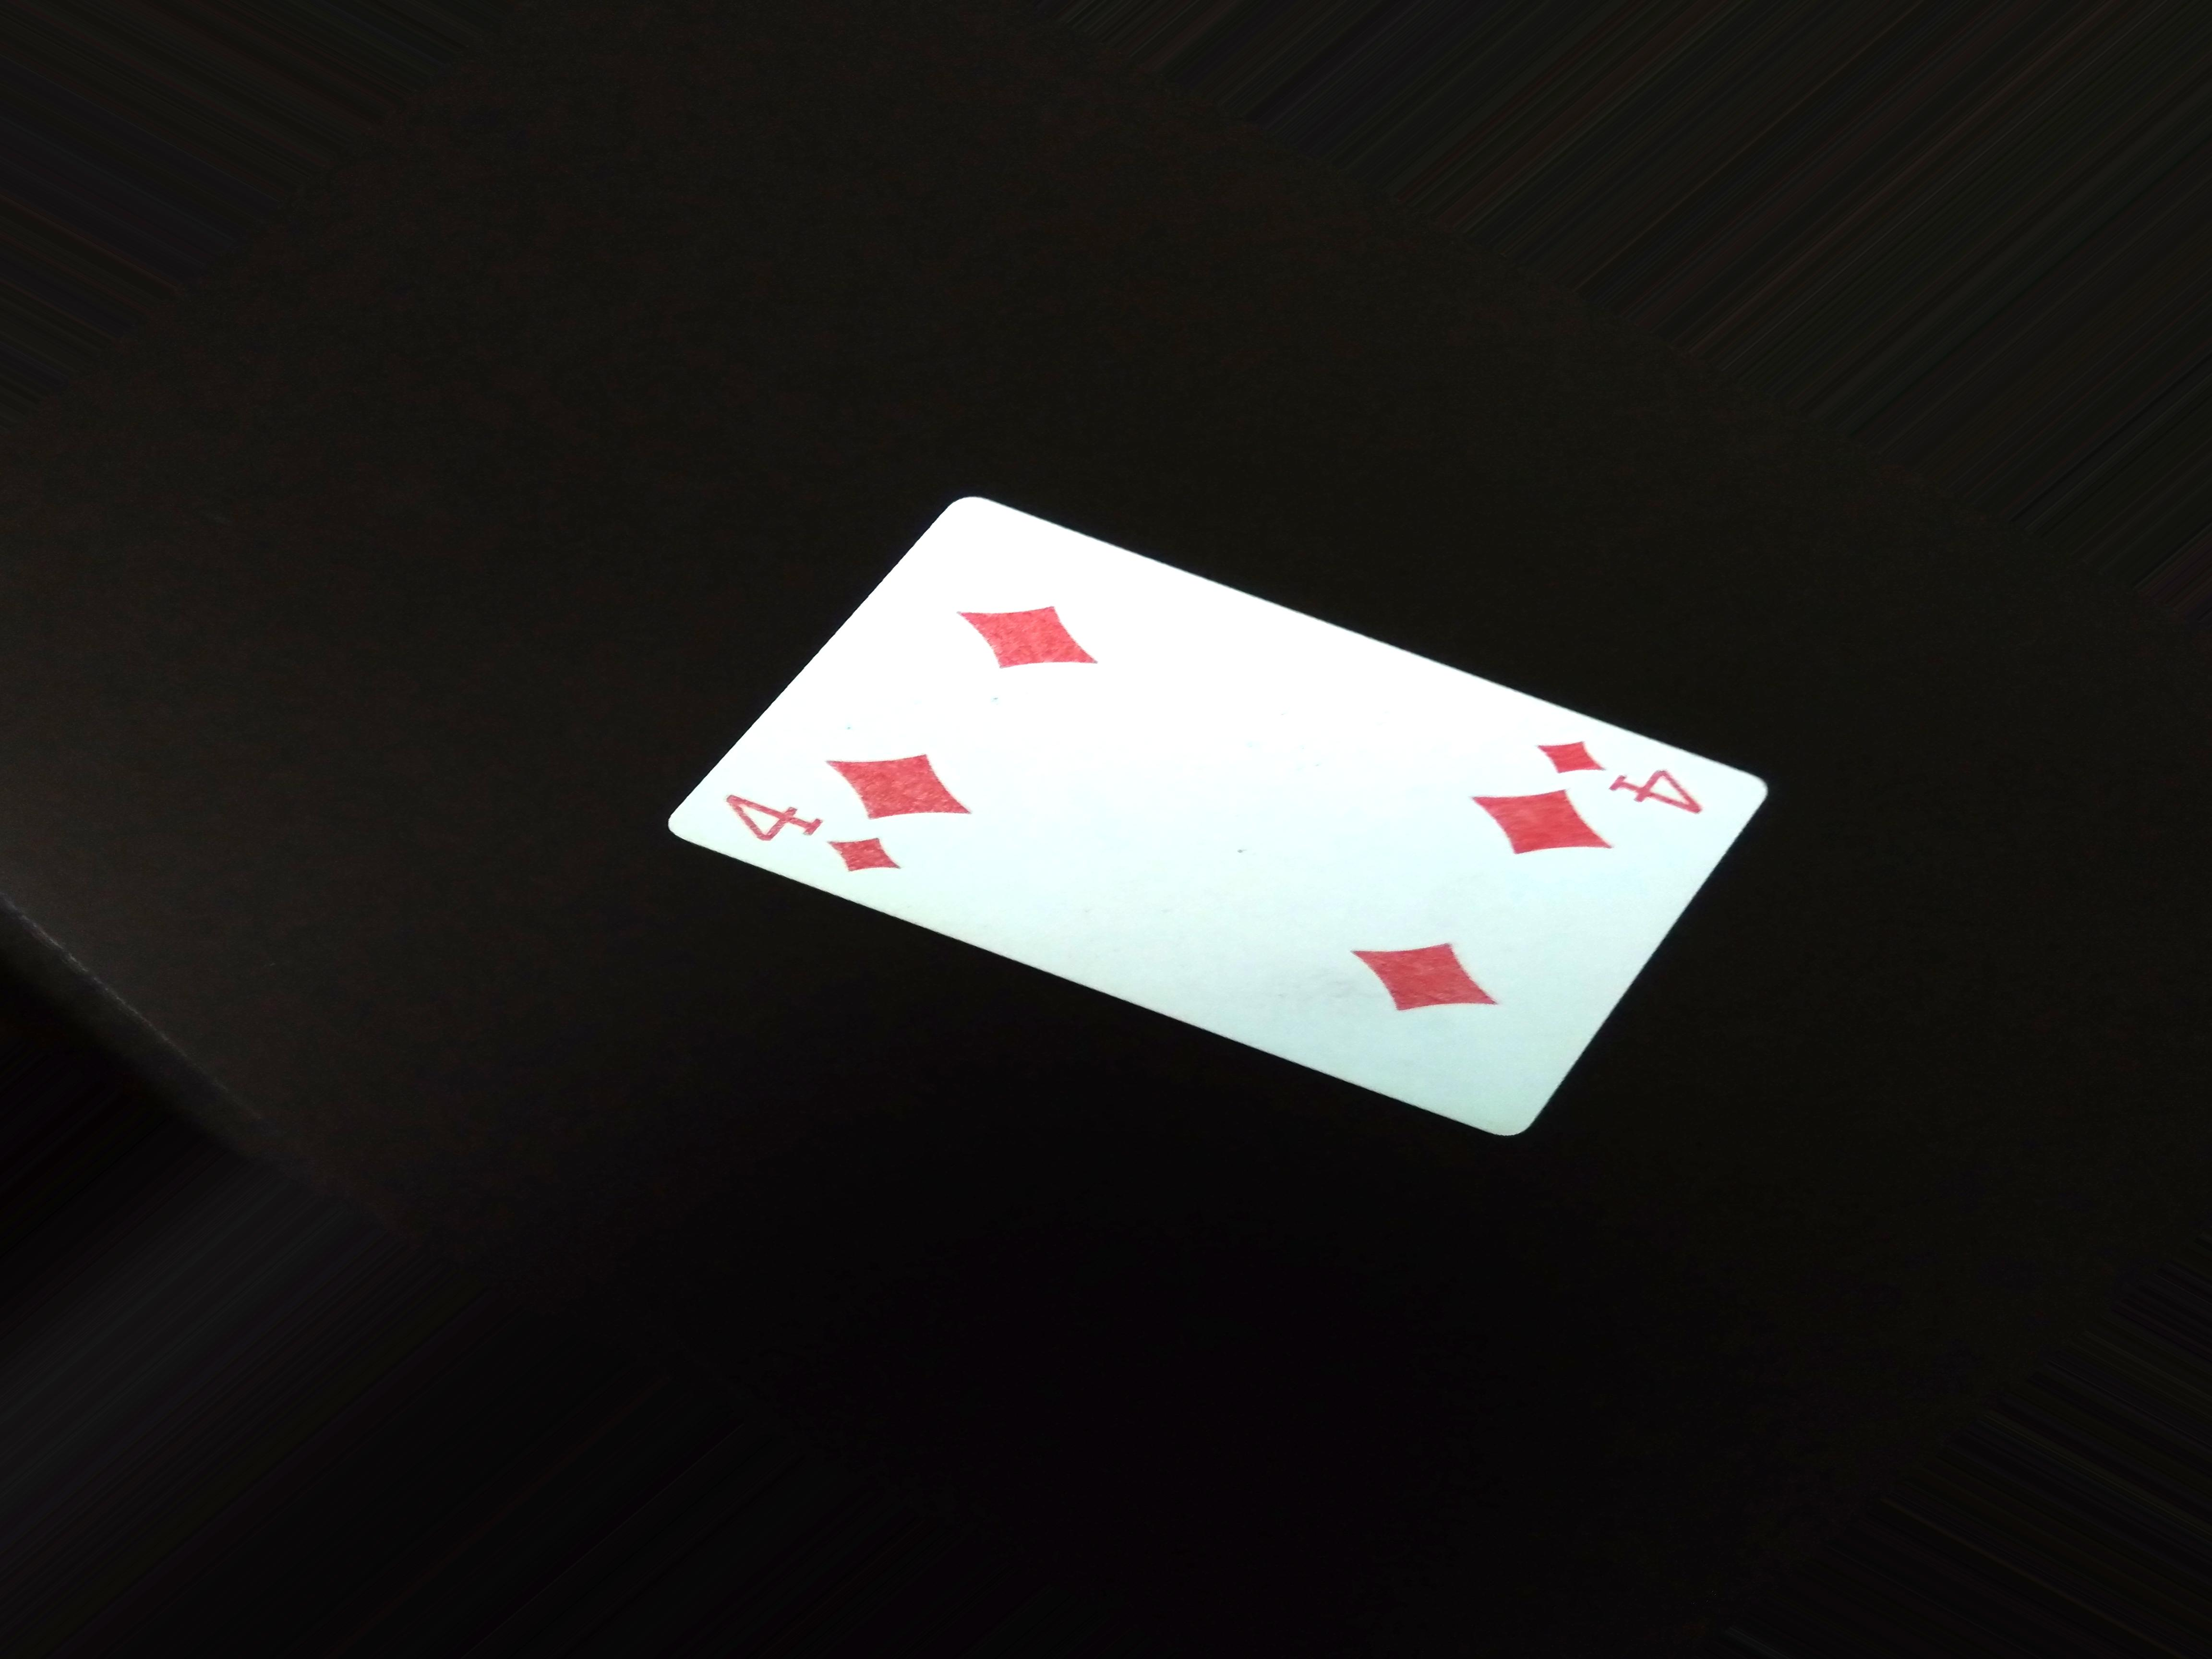4D: (1524, 725, 1714, 816)
